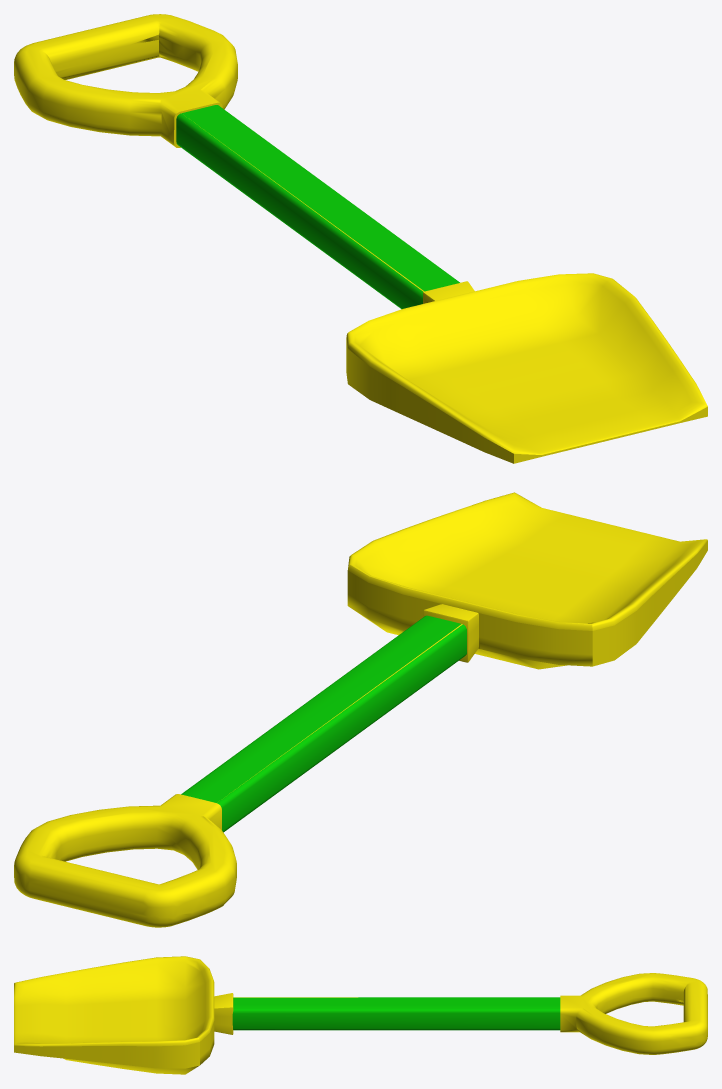
Rendered from Spade.FBX.
The picture shows the model from 3 angles, top to bottom: view 1: azimuth 30°, elevation 25°; view 2: azimuth 150°, elevation 25°; view 3: azimuth 270°, elevation 25°; orthographic projection. The views are drawn at different scales.
Visible parts, largest first — view 1: spade; view 2: spade; view 3: spade.
Part boxes in pixels (x1,y1,x2,y2): spade: (14,14,707,463); spade: (14,492,707,927); spade: (14,956,707,1074).
Size of the model in its own units: 8.75 by 2.17 by 29.85.
